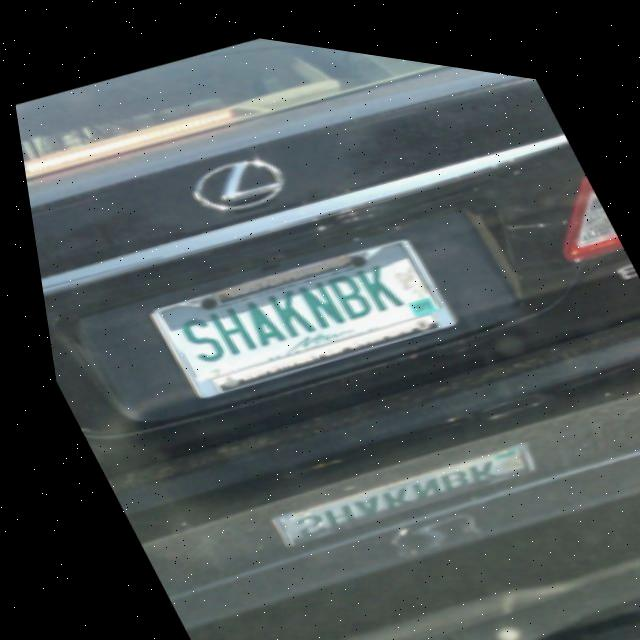license_plate: (123, 191, 464, 426)
